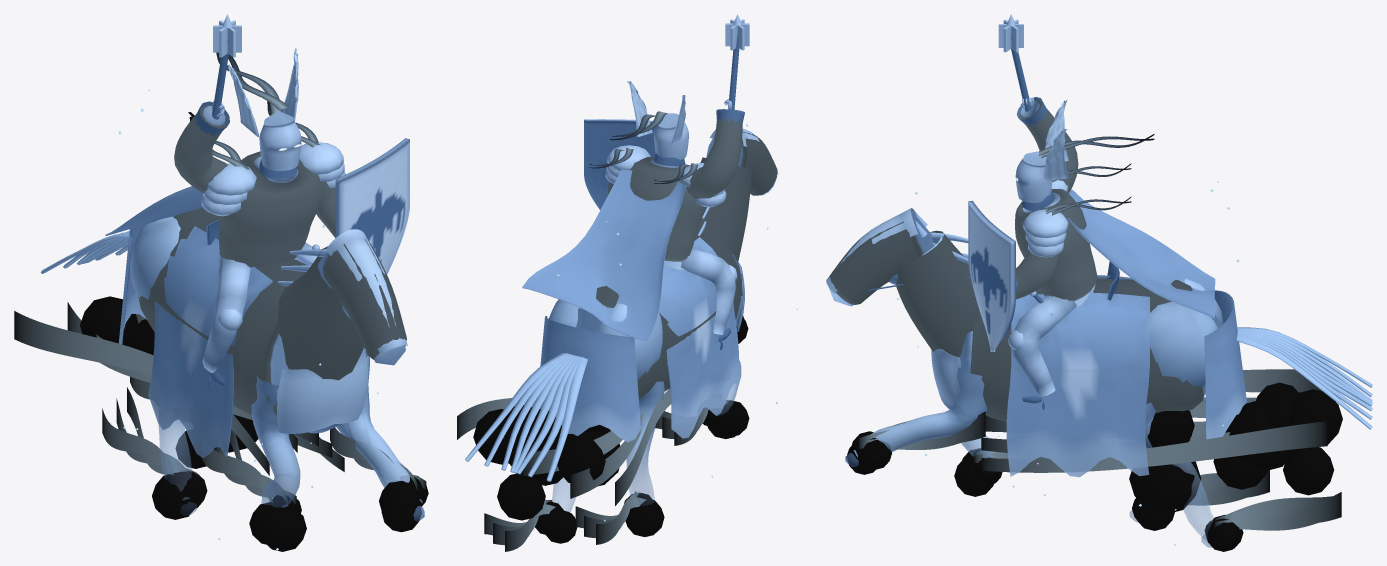
Rendered from rimas.glb.
3 views of the same model, side by side, from view 1: azimuth 30°, elevation 25°; view 2: azimuth 150°, elevation 25°; view 3: azimuth 270°, elevation 25° (orthographic). The views are drawn at different scales.
Visible parts, largest first — view 1: rimas-ghost, rimas-fx; view 2: rimas-ghost, rimas-fx; view 3: rimas-ghost, rimas-fx.
Part boxes in pixels (x1,y1,x2,y2): rimas-ghost: (41, 14, 424, 521); rimas-fx: (14, 52, 428, 551); rimas-ghost: (465, 14, 778, 512); rimas-fx: (457, 111, 777, 551); rimas-ghost: (826, 14, 1372, 547); rimas-fx: (829, 100, 1342, 551).
Bounding box in the file's own units: 0.9515 × 2.4 × 2.37.
